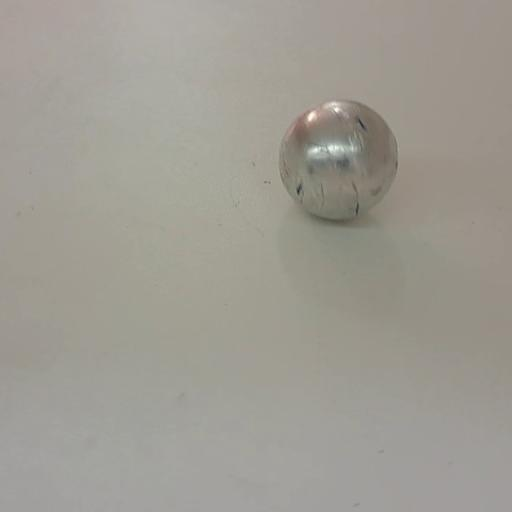alive: (278, 100, 396, 220)
